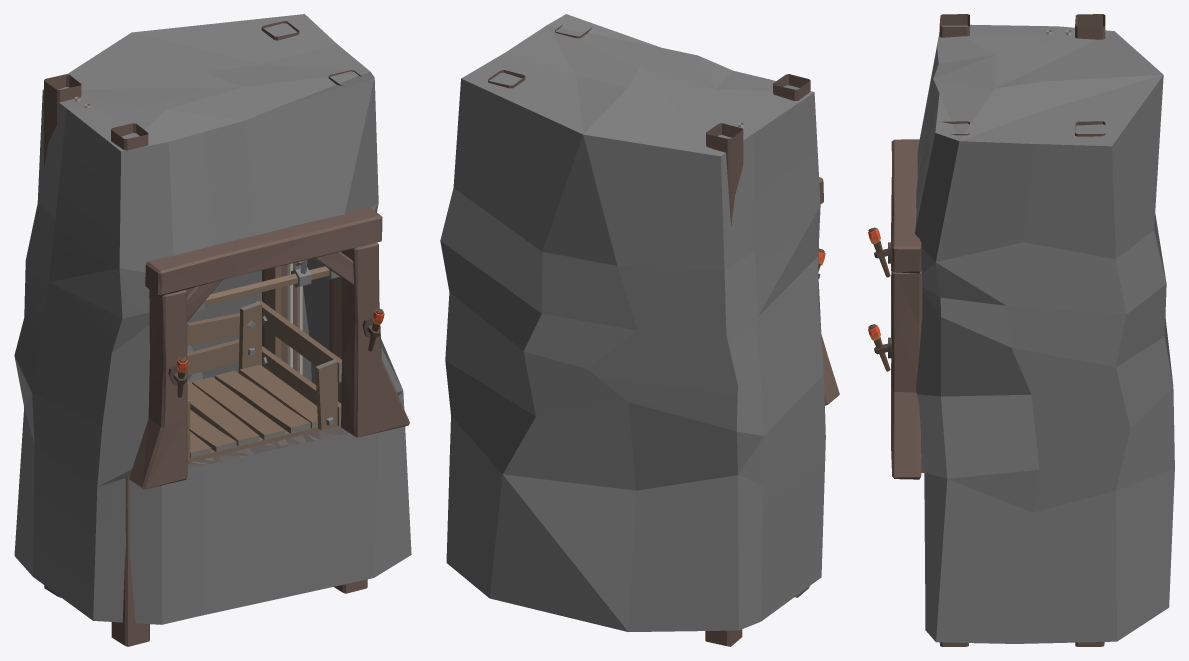
Rendered from minesStairs.fbx.
3 renders of one model, left to right at view 1: azimuth 30°, elevation 25°; view 2: azimuth 150°, elevation 25°; view 3: azimuth 270°, elevation 25°, orthographic.
Visible parts, largest first — view 1: minesStairs; view 2: minesStairs; view 3: minesStairs.
Boxes of the visible parts, <box> form: minesStairs: <box>14,14,411,646</box>; minesStairs: <box>440,14,839,646</box>; minesStairs: <box>868,14,1174,646</box>.
Bounding box in the file's own units: 6.7 × 10.6 × 5.72.
